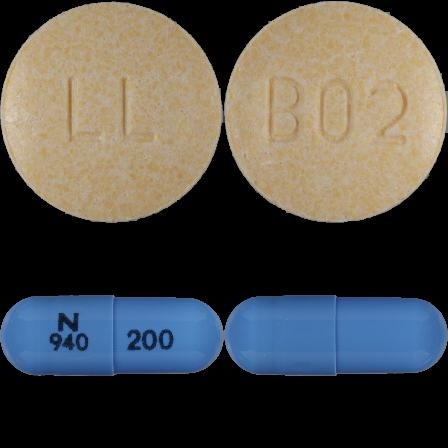33261-416: (0, 0, 224, 224)
